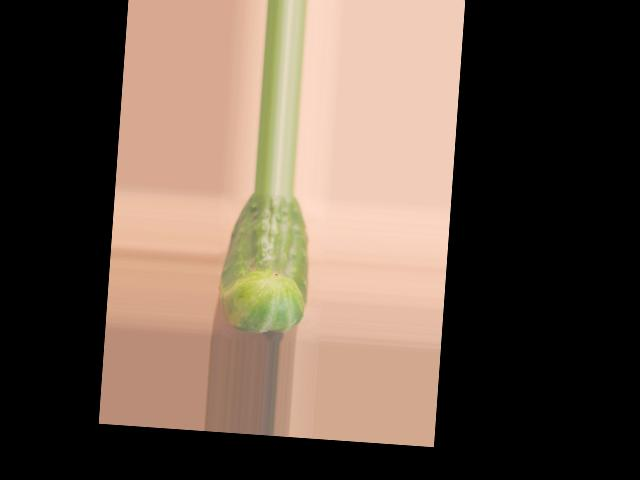cucumber: (217, 190, 314, 335)
